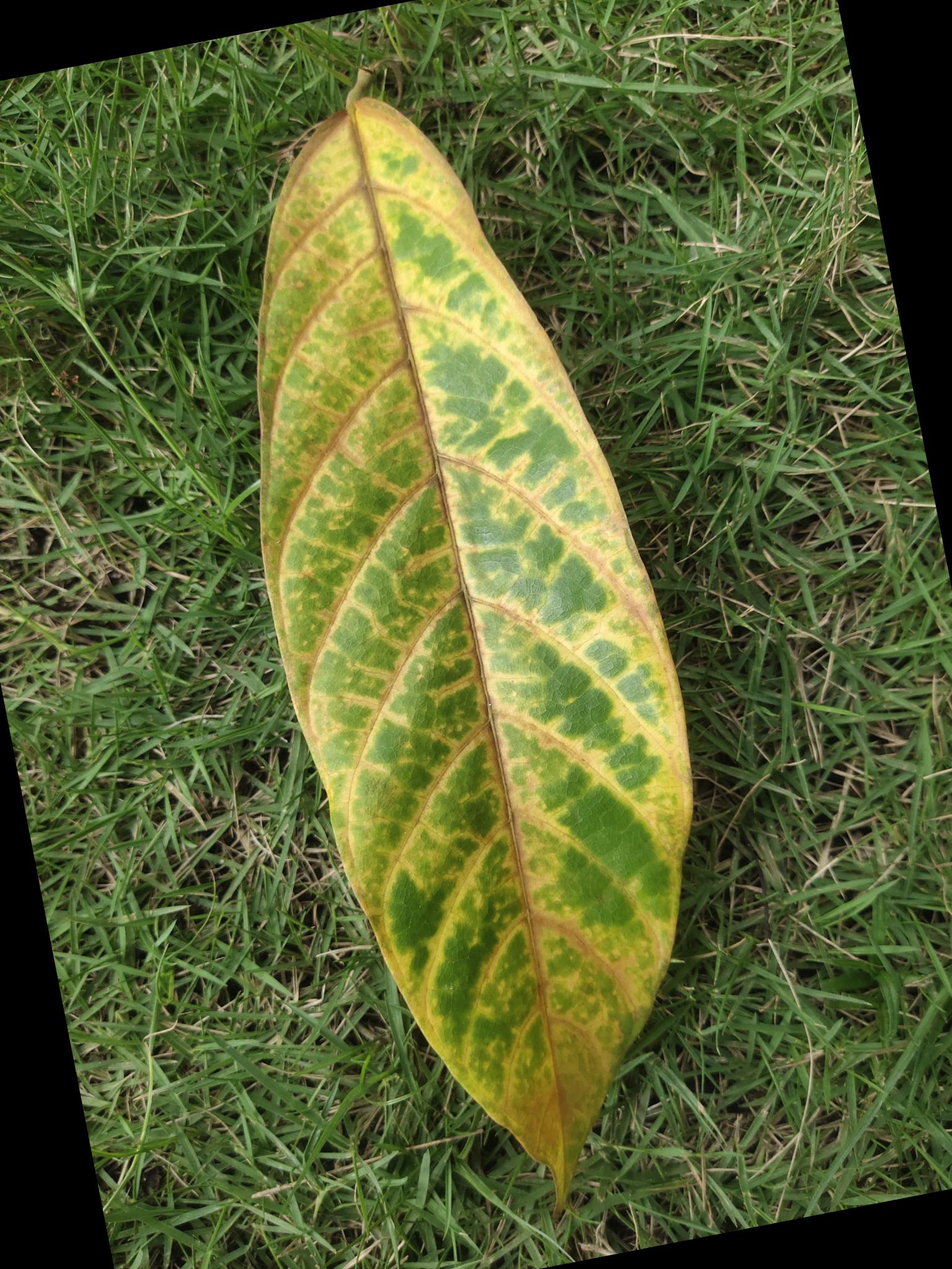Fosforo: (262, 105, 695, 1210)
